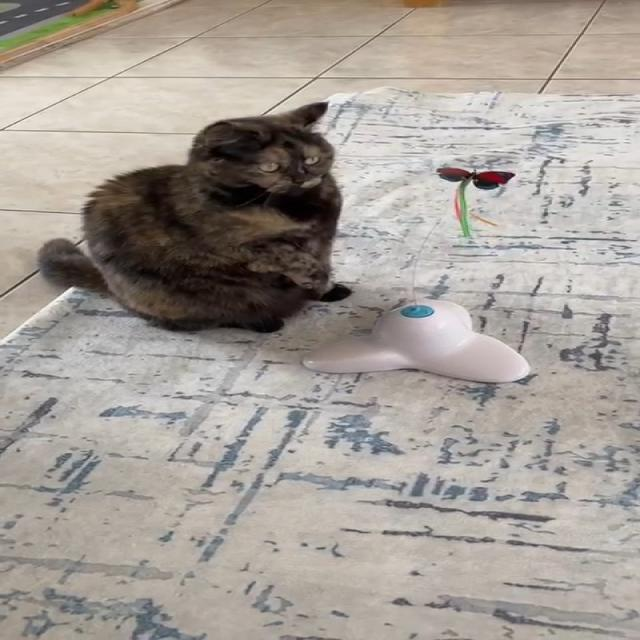authorized: (35, 100, 352, 334)
